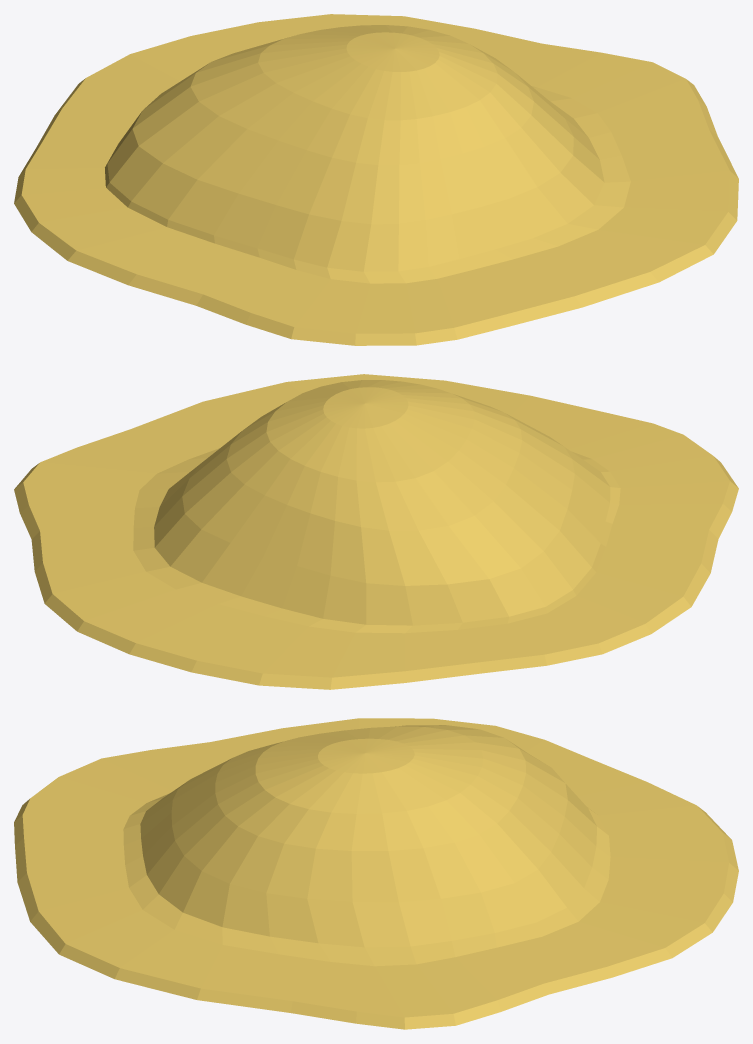
File: hay_pile (2).fbx
3 views of the same model, one above another, from view 1: azimuth 30°, elevation 25°; view 2: azimuth 150°, elevation 25°; view 3: azimuth 270°, elevation 25° (orthographic). The views are drawn at different scales.
Parts seen in each view (by area): view 1: Circle; view 2: Circle; view 3: Circle.
Part boxes in pixels (<box>): Circle: <box>14,14,738,345</box>; Circle: <box>14,374,738,689</box>; Circle: <box>14,718,738,1029</box>.
Bounding box in the file's own units: 375 × 71.4 × 374.
